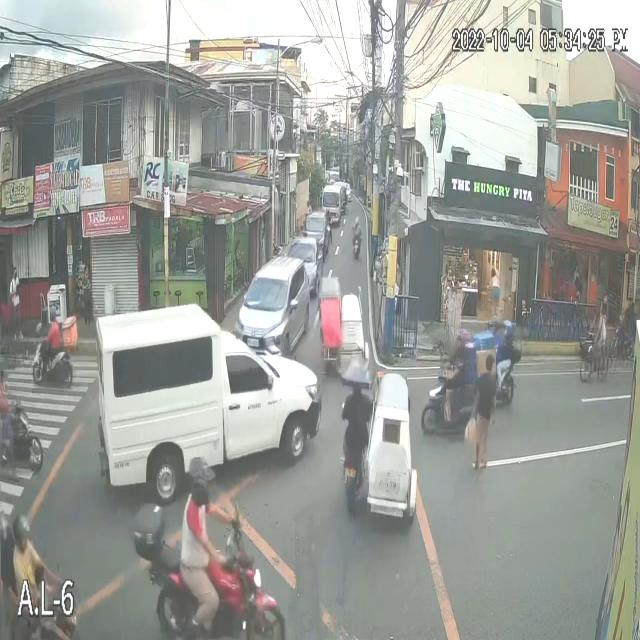Full-Faced: (179, 455, 221, 512), (453, 323, 473, 361), (499, 318, 516, 341), (352, 208, 364, 231), (46, 302, 59, 322)
Half-Faced: (12, 508, 34, 545)
